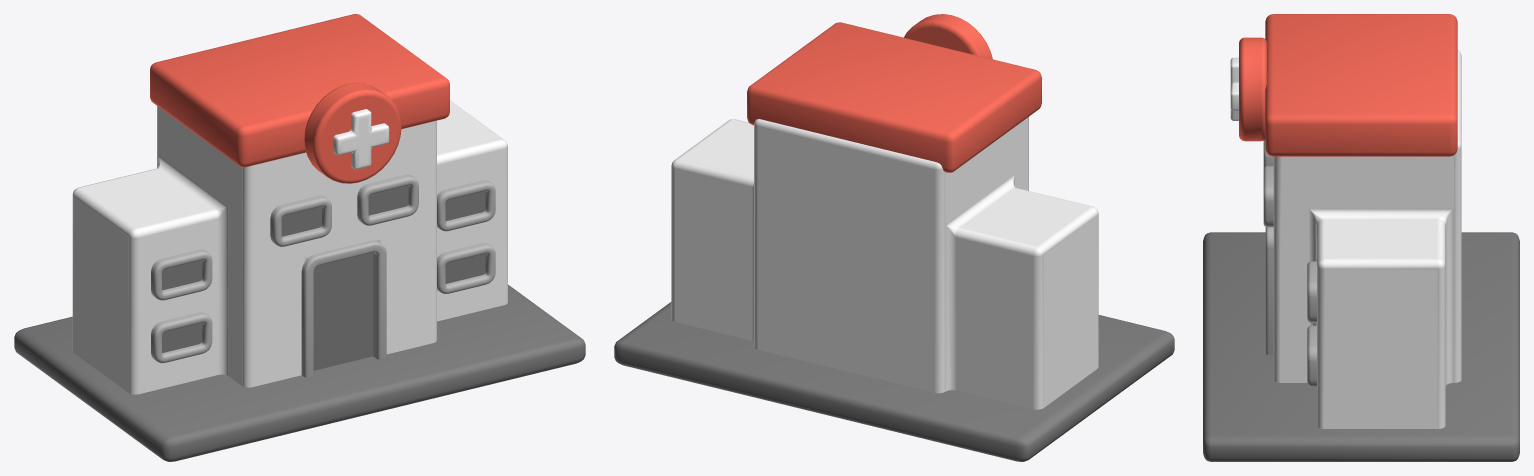
File: Hospital.fbx
3 views of the same model, side by side, from view 1: azimuth 30°, elevation 25°; view 2: azimuth 150°, elevation 25°; view 3: azimuth 270°, elevation 25° (orthographic). The views are drawn at different scales.
Parts seen in each view (by area): view 1: Hospital; view 2: Hospital; view 3: Hospital.
Part boxes in pixels (x1,y1,x2,y2): Hospital: (14, 14, 585, 461); Hospital: (614, 14, 1174, 461); Hospital: (1203, 14, 1519, 461).
Size of the model in its own units: 316 by 221 by 200.
